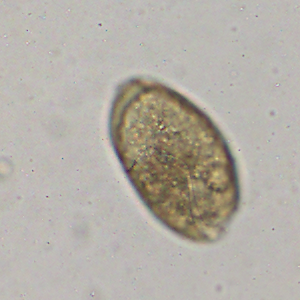Fasciola_hepatica_egg: (107, 75, 241, 244)
